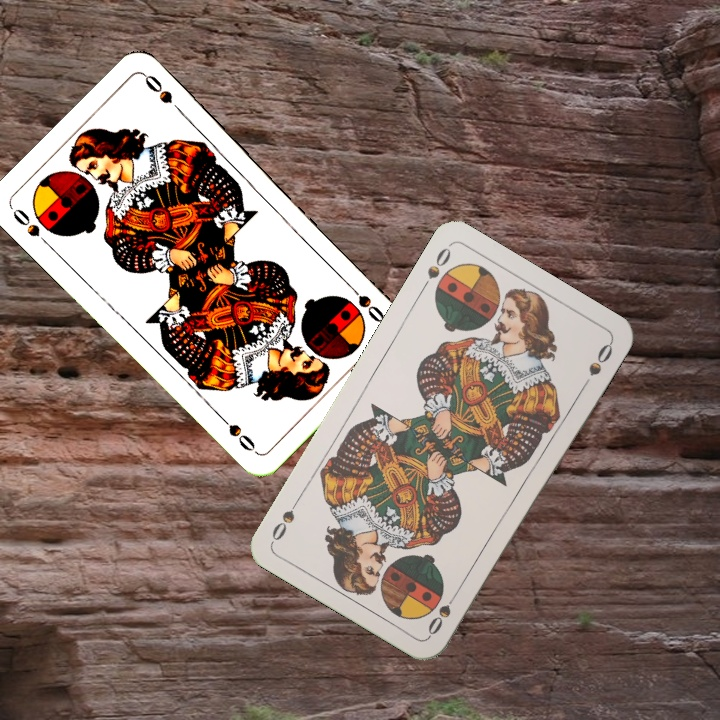SO: (342, 278, 388, 325), (7, 204, 53, 250), (423, 585, 462, 638), (416, 243, 454, 295)
